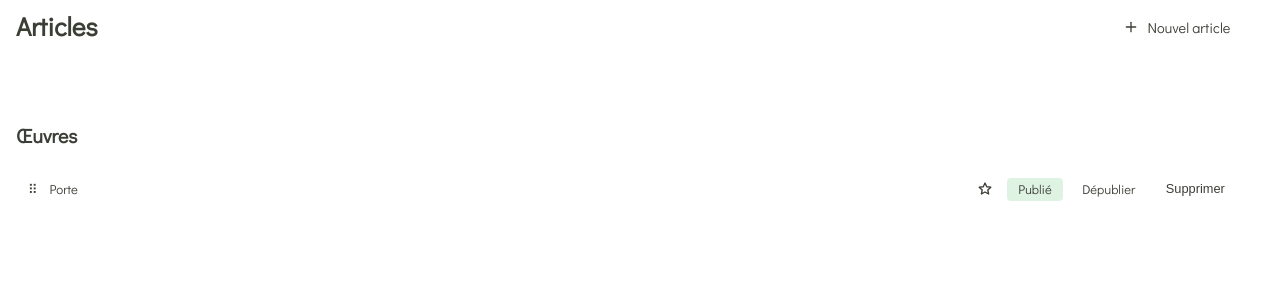
Test: ArticleList › shows an error and leaves the badge unchanged when the publish toggle fails
This screenshot has width=1265, height=291.
Expected: the link "Porte" is shown, 50,180 -> 78,197
What coordinates should you click on to do the following:
click the button "Dépublier"
I would click on:
 (1109, 189)
Its box is 1071,178 -> 1147,200.
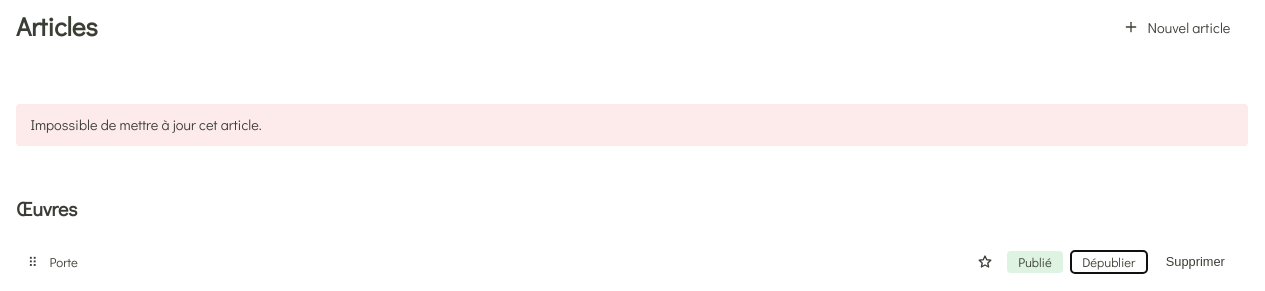
Expected: the text "Publié" is shown, 1007,251 -> 1063,273
Expected: the message "Impossible de mettre à jour cet article." is shown, 16,104 -> 1248,146
